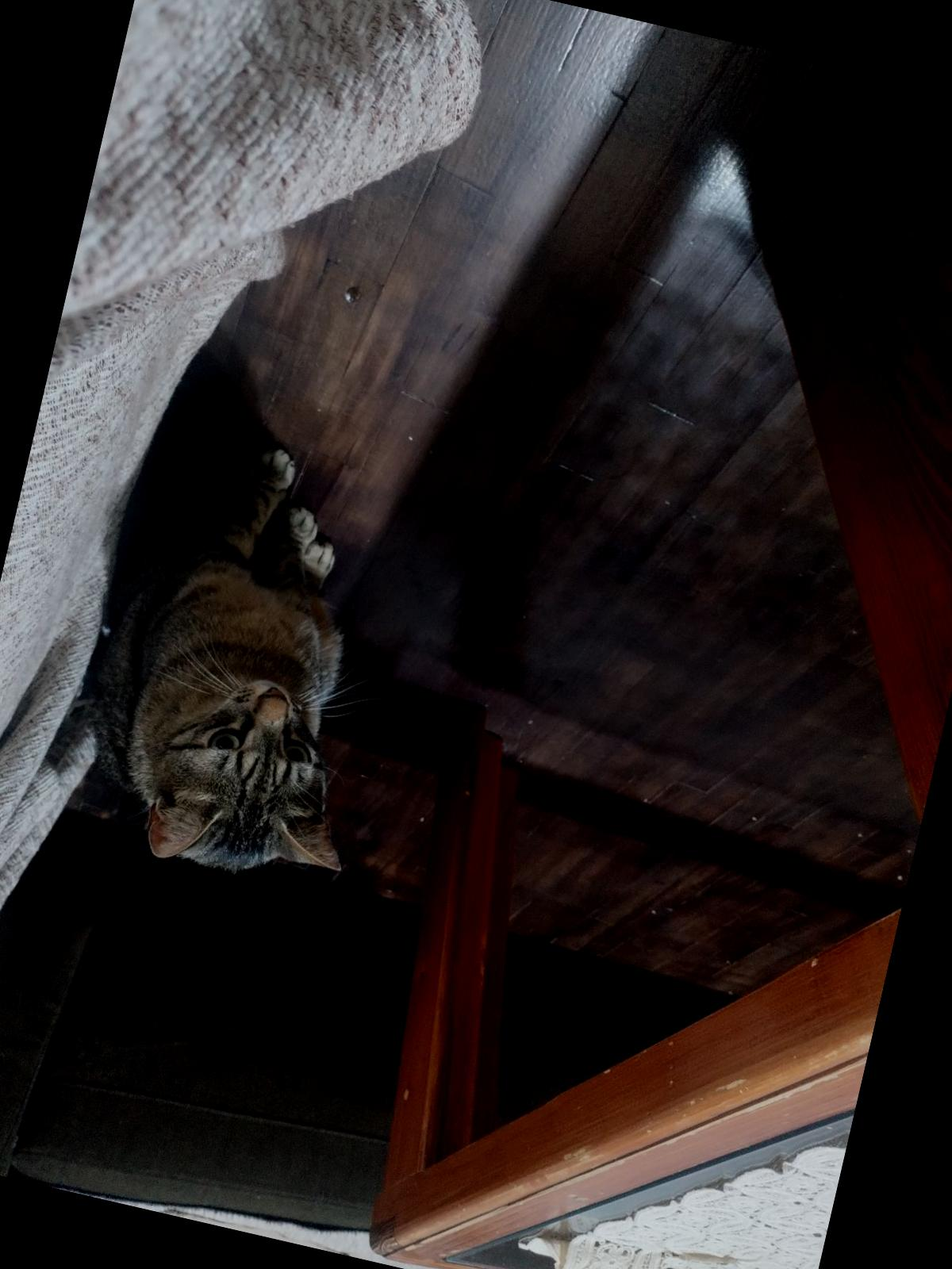macka: (32, 410, 441, 903)
